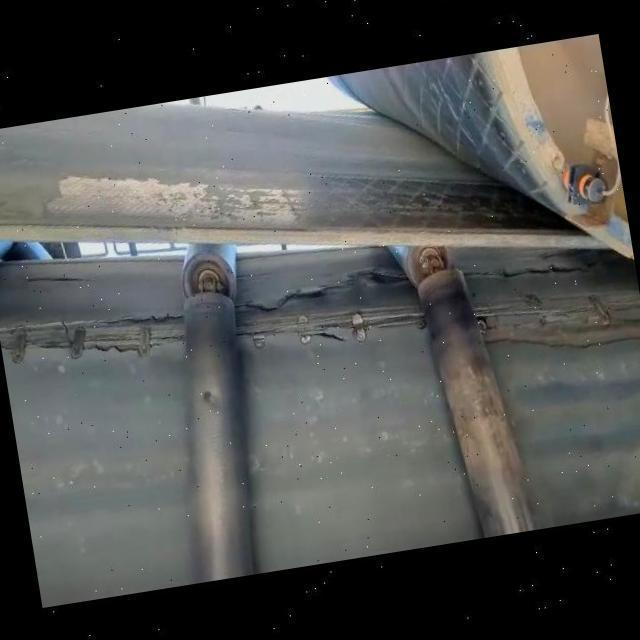Tear: (465, 251, 640, 353), (235, 266, 428, 351), (0, 304, 194, 370)
